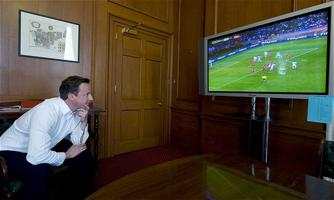person: (1, 76, 94, 200)
